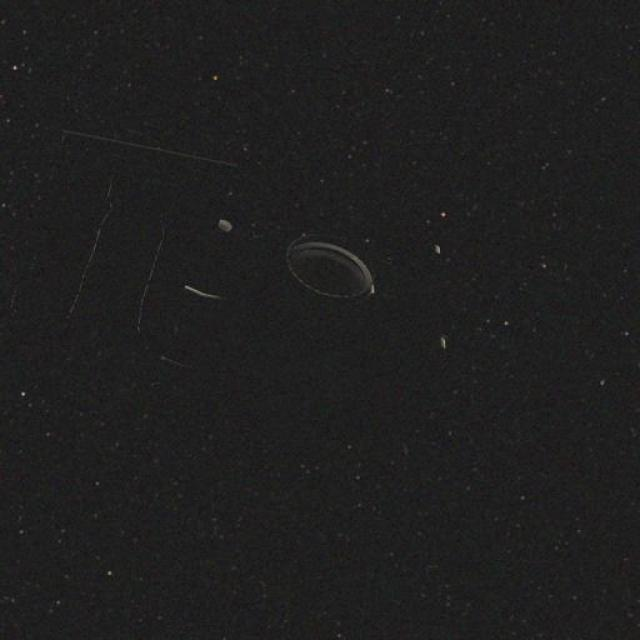proba_3_csc: (15, 150, 435, 400)
